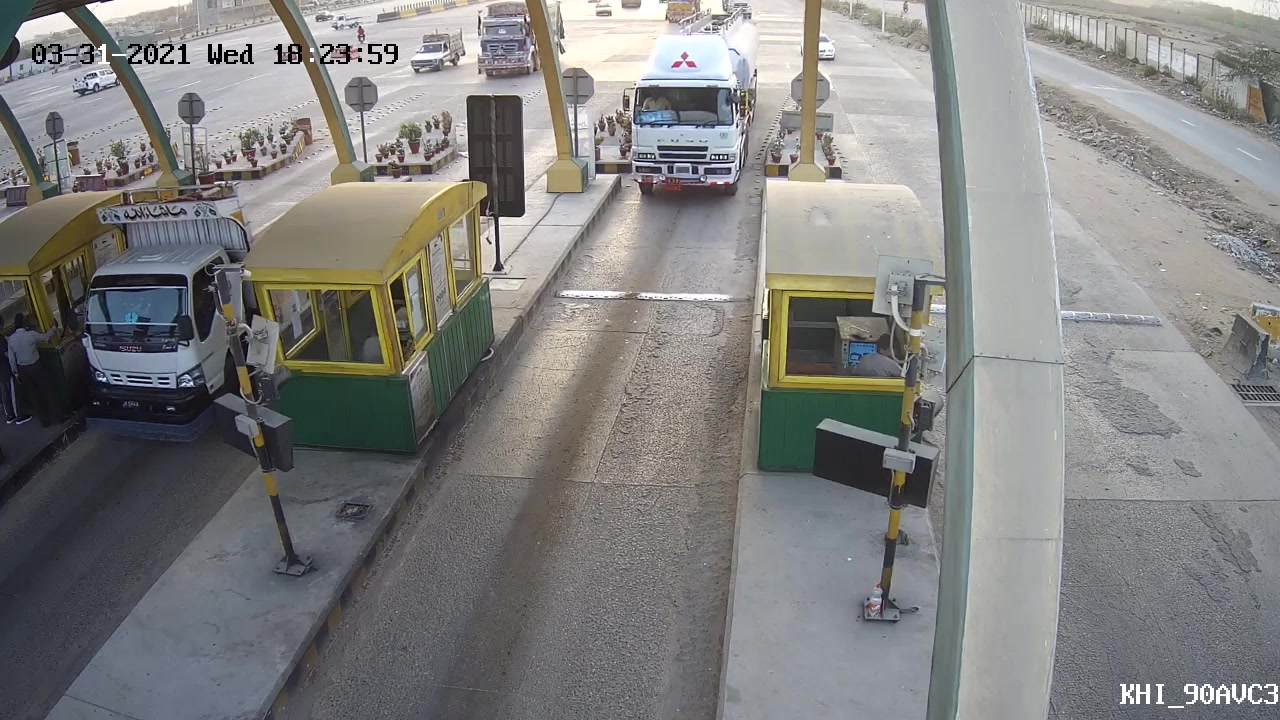F6: (617, 4, 770, 204)
